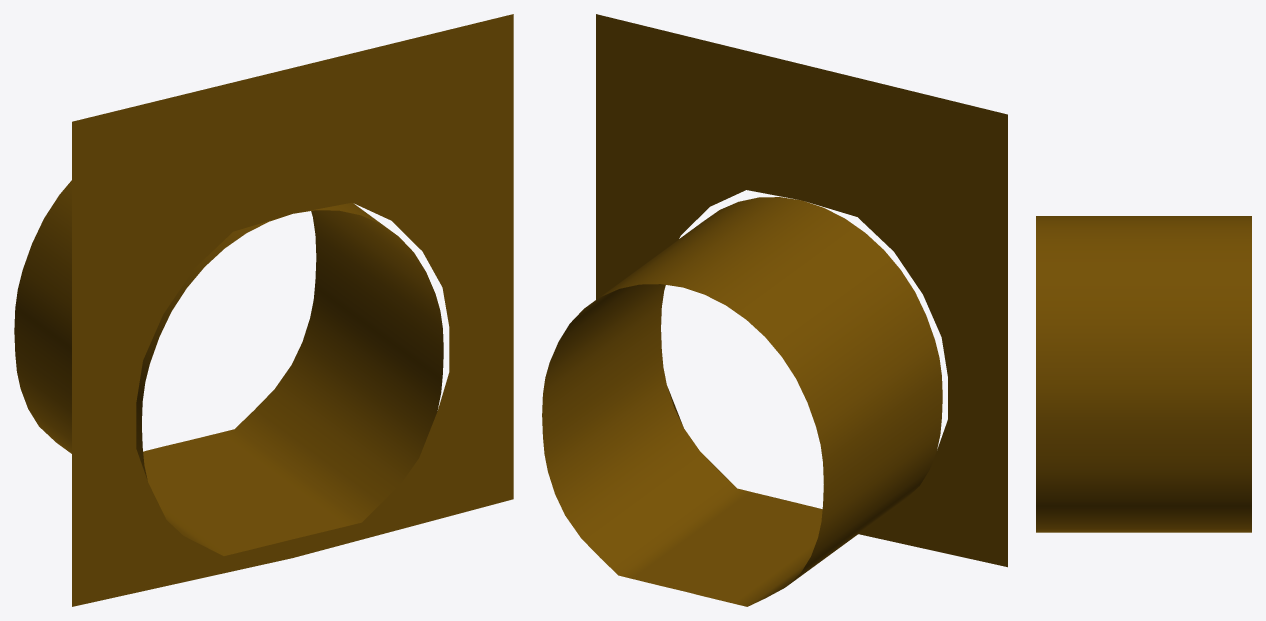
File: collider metro entrance.FBX
3 renders of one model, left to right at view 1: azimuth 30°, elevation 25°; view 2: azimuth 150°, elevation 25°; view 3: azimuth 270°, elevation 25°, orthographic. The views are drawn at different scales.
Visible parts, largest first — view 1: Object1196324278; view 2: Object1196324278; view 3: Object1196324278.
Boxes of the visible parts, box(x1,y1,x2,y2) form: Object1196324278: box(14, 14, 513, 606); Object1196324278: box(542, 14, 1007, 606); Object1196324278: box(1036, 216, 1251, 532).
Size of the model in its own units: 8 by 8.49 by 4.
